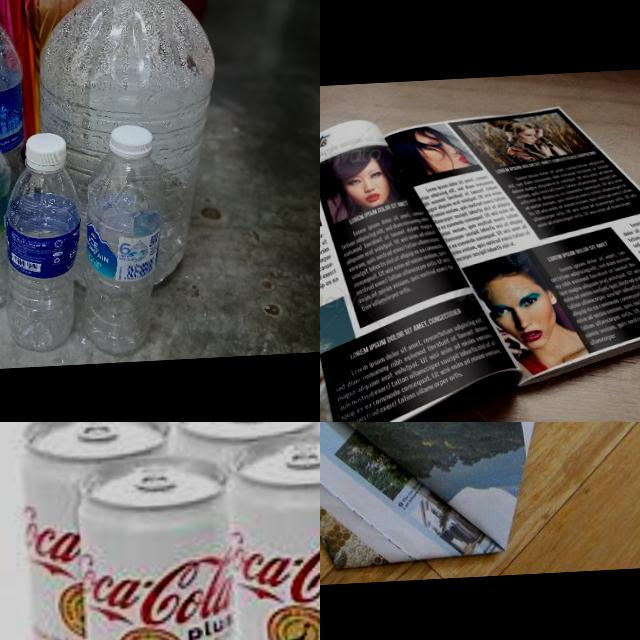aba de lata: (136, 466, 178, 494), (286, 440, 320, 467), (79, 422, 121, 442)
garrafa plástica: (33, 0, 230, 292), (86, 150, 172, 352), (5, 162, 80, 350), (0, 3, 33, 218), (0, 135, 19, 314)
lata: (20, 422, 189, 640), (73, 449, 251, 640), (215, 432, 320, 640), (176, 422, 320, 448)
papel: (320, 95, 640, 422), (320, 422, 583, 578)
tampa plástica: (104, 118, 156, 158), (22, 131, 68, 174)
